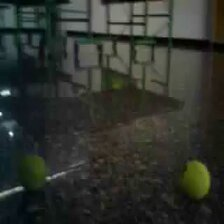tennis: (180, 160, 211, 200), (16, 154, 46, 189)
